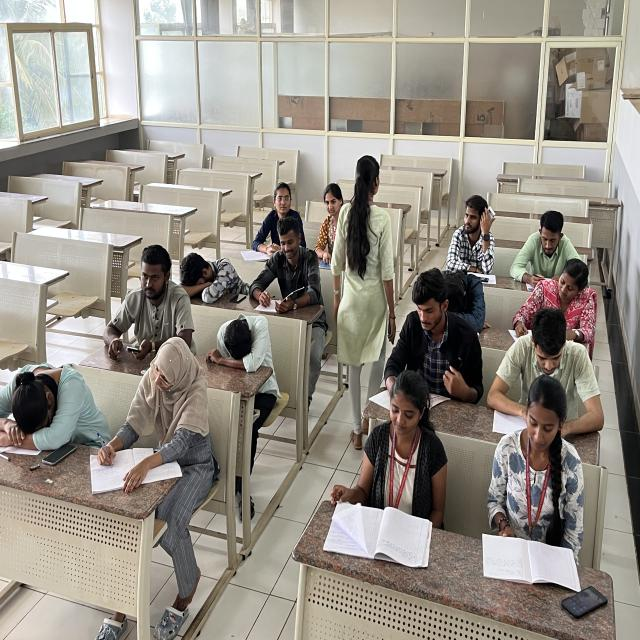Reading: (332, 360, 448, 563), (486, 371, 582, 596), (255, 219, 327, 315), (444, 188, 503, 264)
Sleeping: (0, 355, 99, 436), (175, 245, 245, 299), (212, 310, 277, 366), (436, 265, 487, 321)
Using Phone: (106, 238, 196, 357)
Writing: (94, 342, 214, 488), (511, 261, 606, 344), (238, 177, 313, 256)
